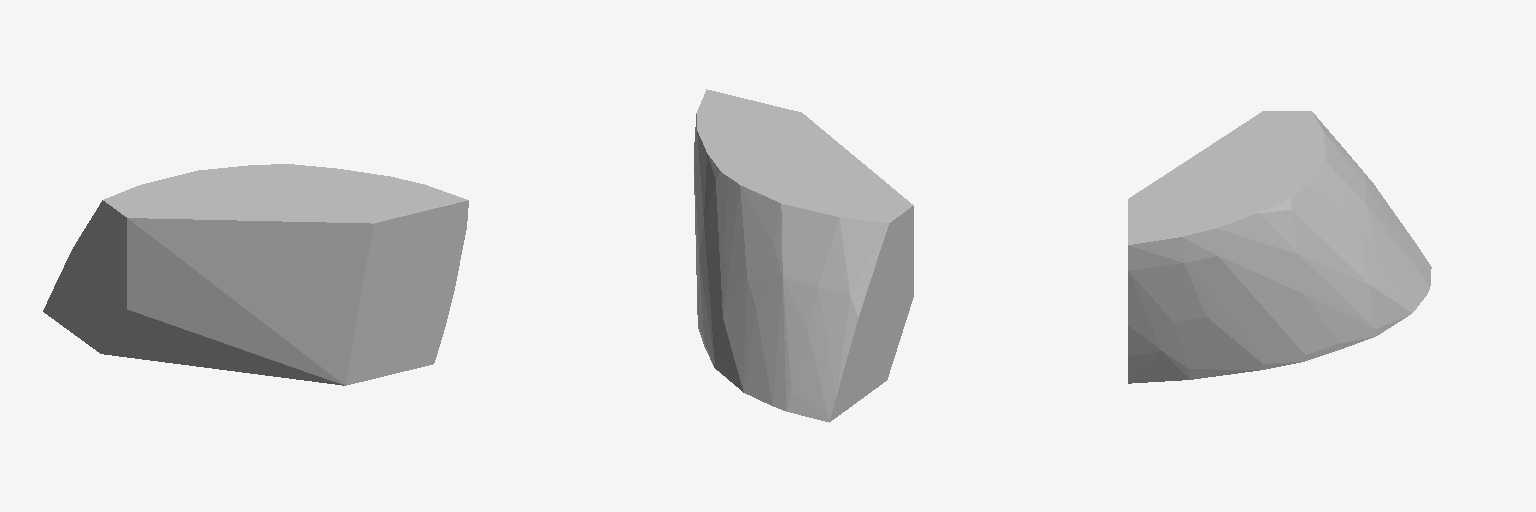
File: phantom-elastrat_collision_448.obj
3 renders of one model, left to right at view 1: azimuth 30°, elevation 25°; view 2: azimuth 150°, elevation 25°; view 3: azimuth 270°, elevation 25°, orthographic.
Bounding box in the file's own units: 0.0054 × 0.0029 × 0.0052.